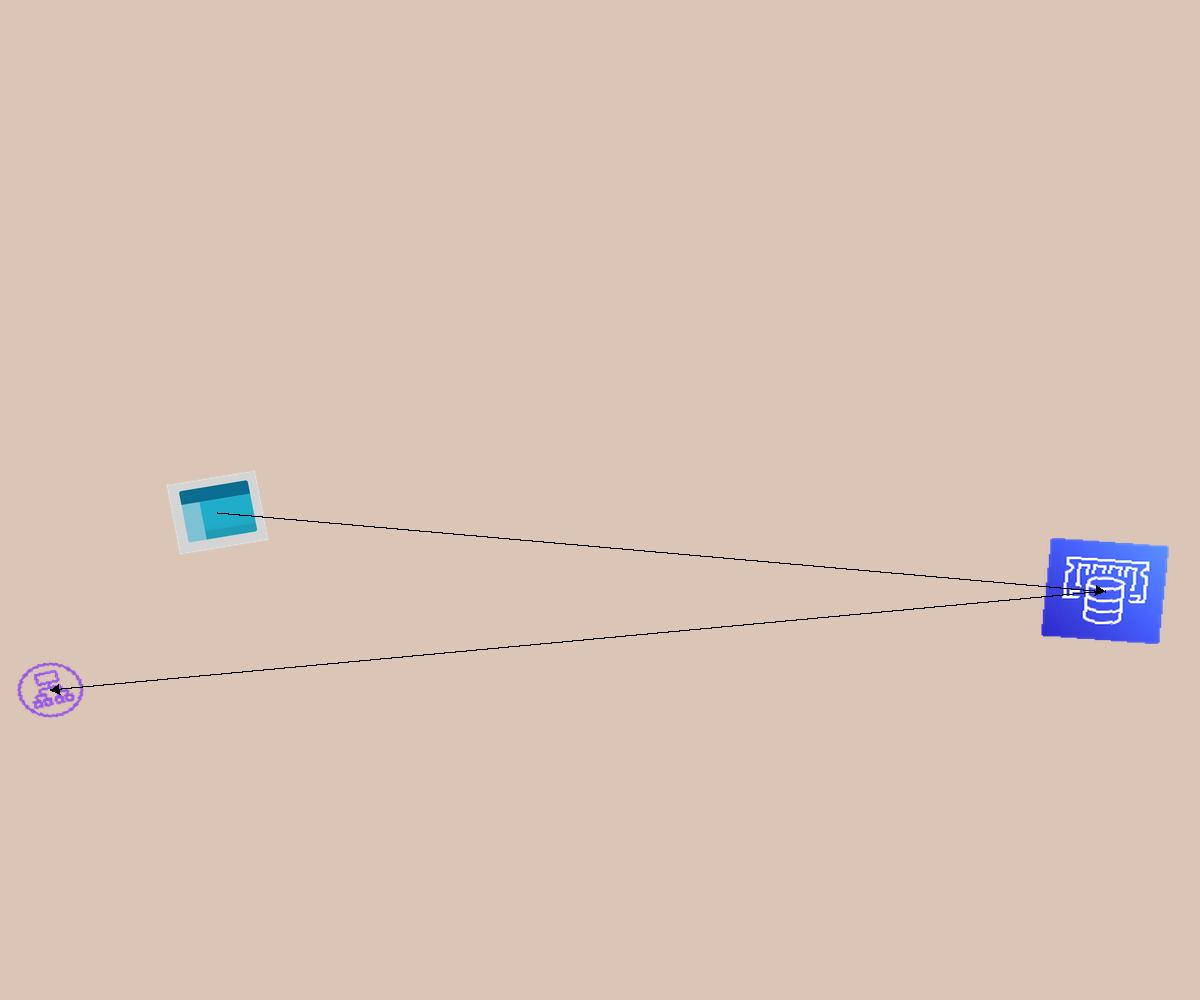AWS-ElastiCache: (1040, 537, 1170, 645)
AWS-Res_Elastic-Load-Balancing_Application-Load-Balancer: (6, 653, 95, 727)
Azure_management-portal: (166, 470, 269, 555)
